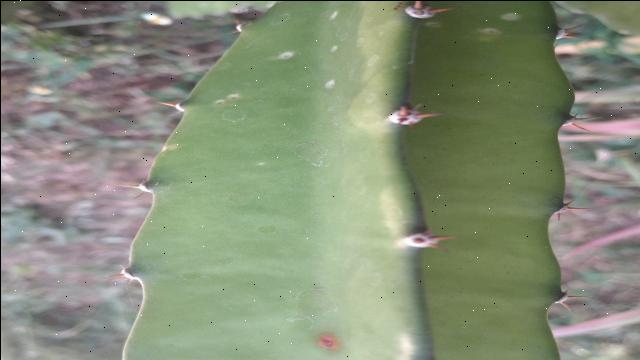stemcanker: (317, 330, 345, 354), (219, 89, 248, 105), (477, 23, 505, 39)
